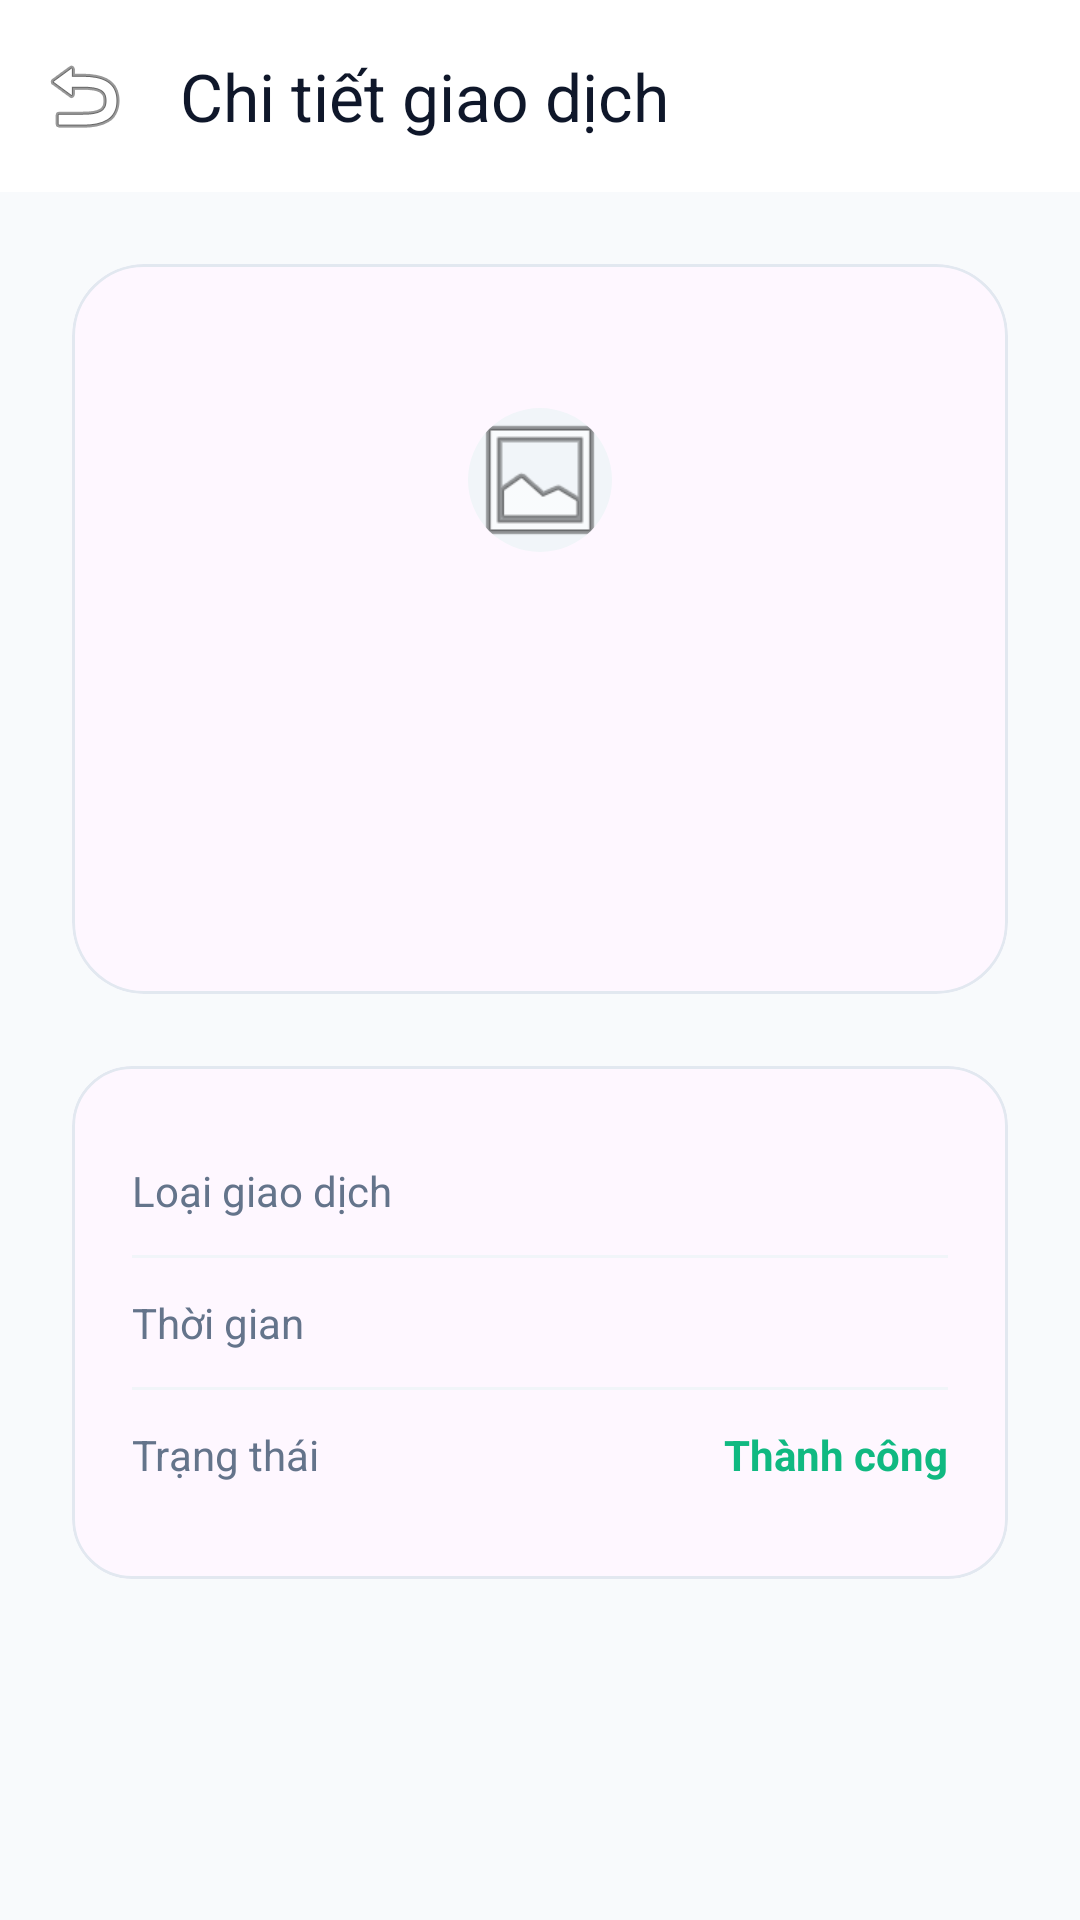

Named icons in this screenshot (1080×1920) and their centers, [x,y]:
gallery: [540,480]
